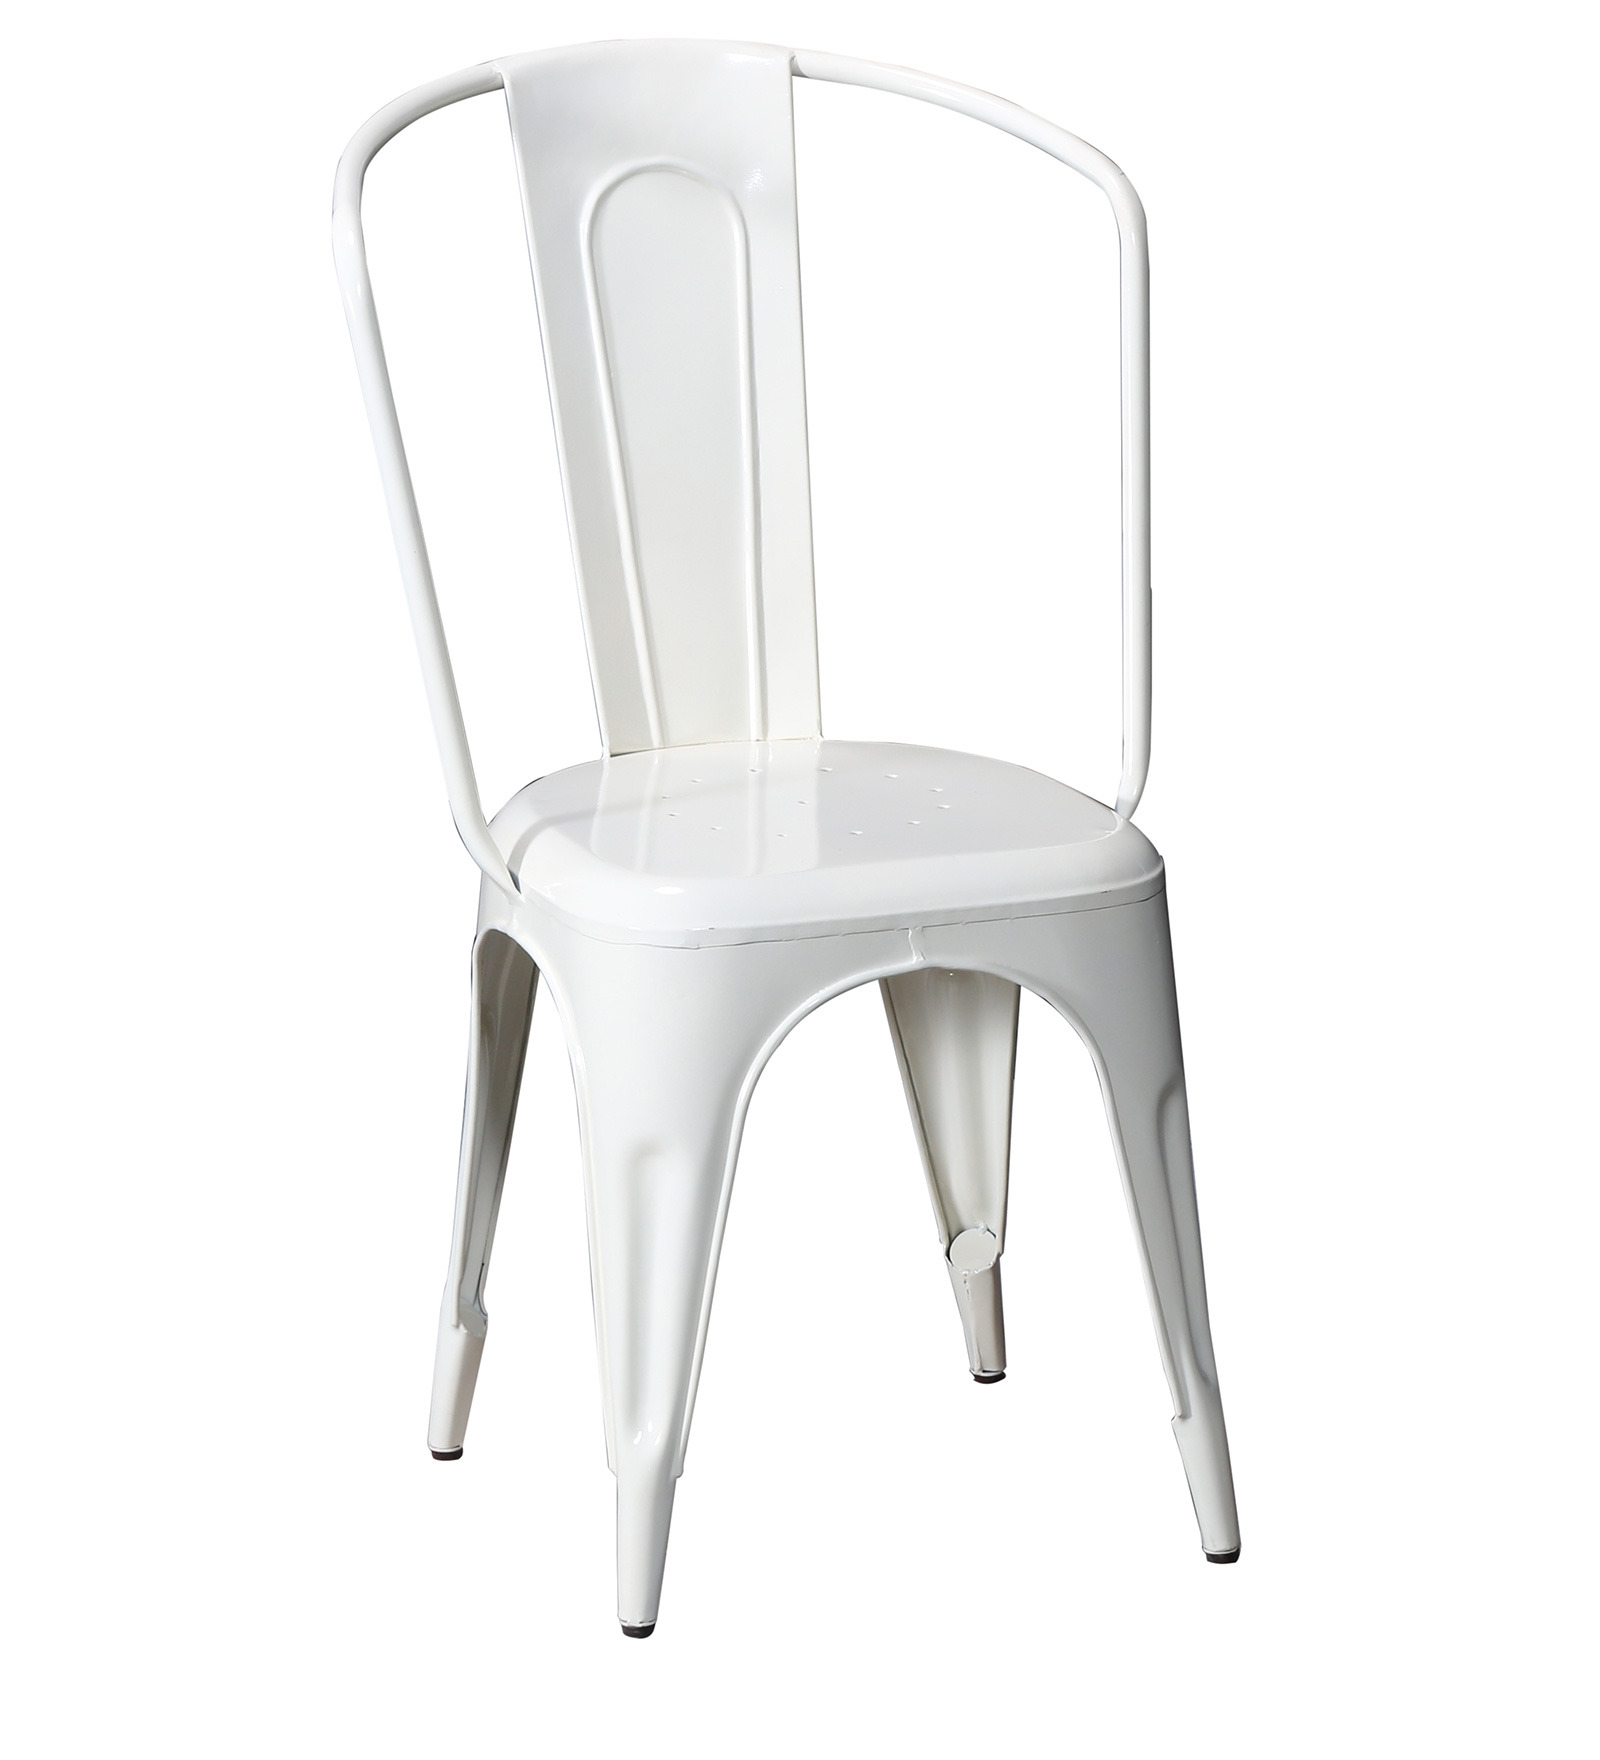Ekati Metal Chair in White Color by Bohemiana: (296, 26, 1339, 1671)
